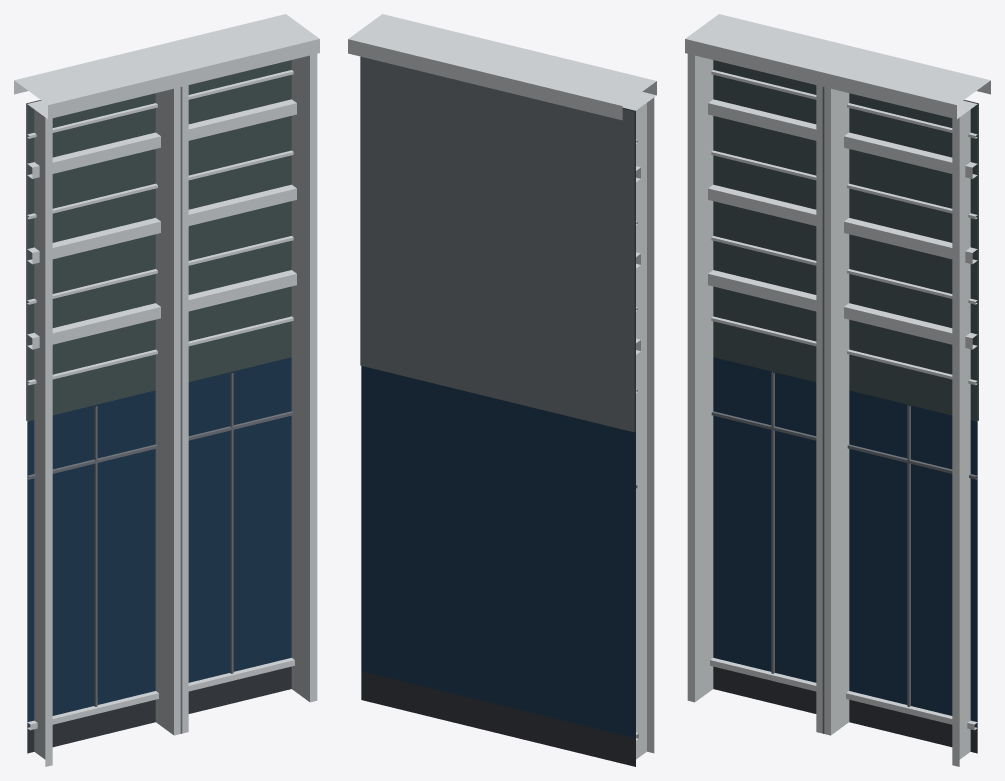
File: top-w1_close.fbx
The picture shows the model from 3 angles, left to right: view 1: azimuth 30°, elevation 25°; view 2: azimuth 150°, elevation 25°; view 3: azimuth 330°, elevation 25°; orthographic projection.
Parts seen in each view (by area): view 1: a2012/200/top-w1_close; view 2: a2012/200/top-w1_close; view 3: a2012/200/top-w1_close.
Boxes of the visible parts, <box> form: a2012/200/top-w1_close: <box>14,14,319,766</box>; a2012/200/top-w1_close: <box>348,14,656,766</box>; a2012/200/top-w1_close: <box>685,14,990,766</box>.
Bounding box in the file's own units: 3 × 7 × 0.65.
